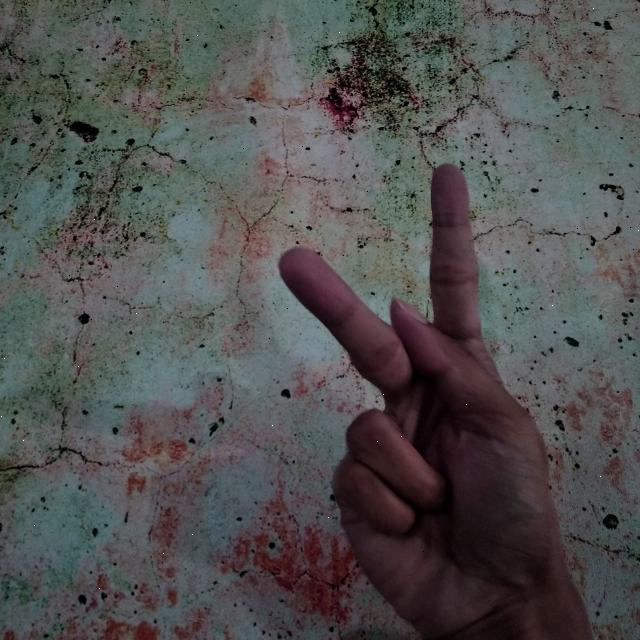K: (275, 160, 591, 640)
